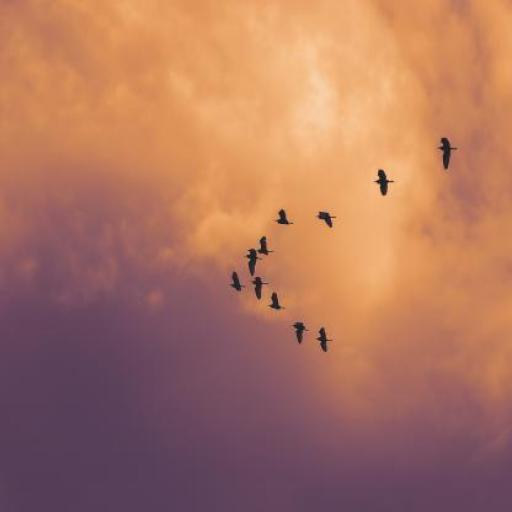bird: (438, 138, 459, 170), (374, 168, 395, 196), (244, 249, 263, 277), (316, 328, 334, 354), (250, 276, 268, 300), (292, 322, 309, 346), (229, 270, 247, 292), (256, 235, 274, 256), (316, 212, 338, 229), (268, 292, 286, 310), (275, 208, 294, 225)
